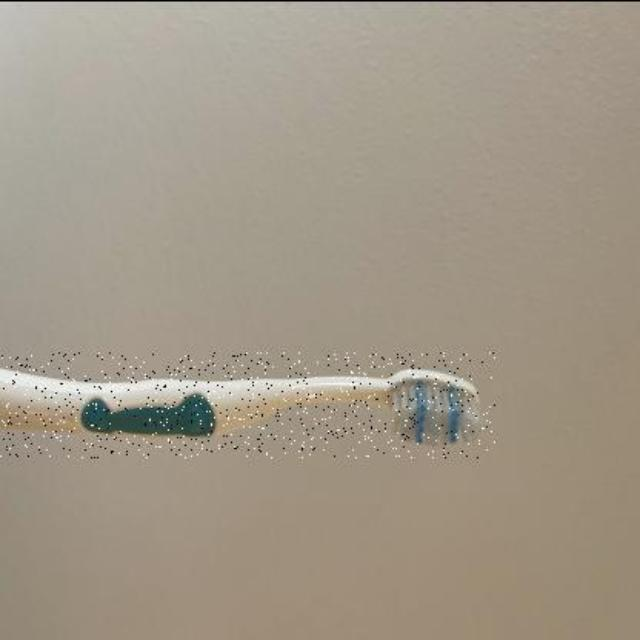toothbrush: (0, 351, 496, 457)
